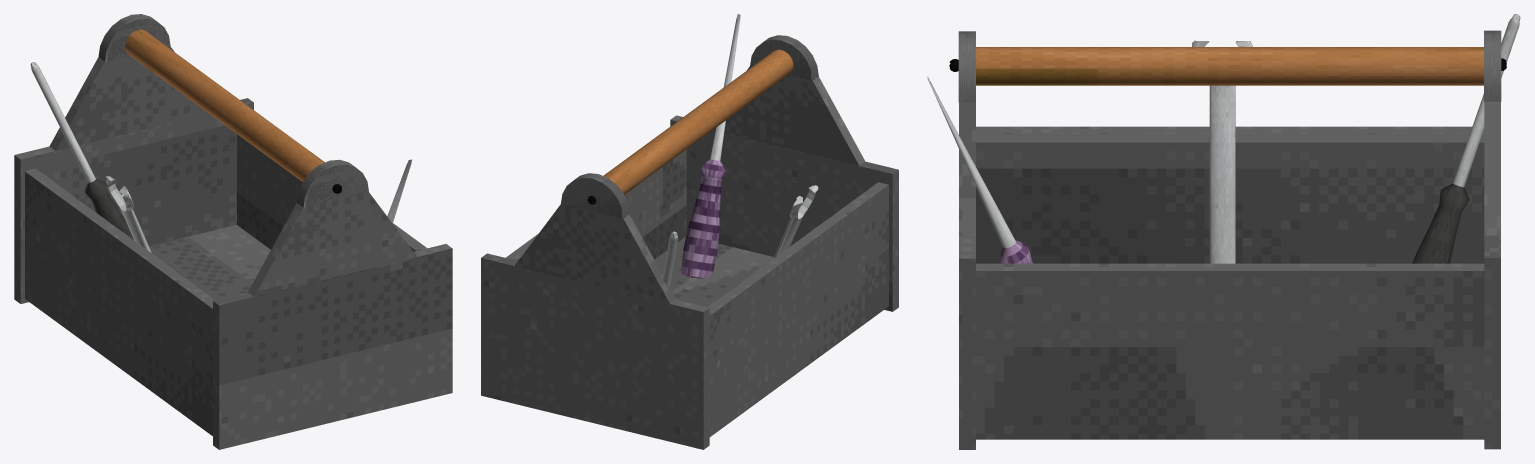
The model's file is Tool_Box_2.fbx.
3 views of the same model, side by side, from view 1: azimuth 30°, elevation 25°; view 2: azimuth 150°, elevation 25°; view 3: azimuth 270°, elevation 25° (orthographic). The views are drawn at different scales.
Parts seen in each view (by area): view 1: pCube5.001, pCylinder5, pCylinder6; view 2: pCube5.001, pCylinder4, pCylinder6, pCylinder5; view 3: pCube5.001, pCylinder6, pCylinder5, pCylinder4.
Part boxes in pixels (left/top/right/bottom): pCube5.001: left=14, top=14, right=452, bottom=449; pCylinder5: left=30, top=62, right=133, bottom=239; pCylinder6: left=106, top=176, right=151, bottom=252; pCube5.001: left=481, top=35, right=898, bottom=449; pCylinder4: left=681, top=14, right=740, bottom=278; pCylinder6: left=773, top=185, right=818, bottom=258; pCylinder5: left=662, top=231, right=678, bottom=286; pCube5.001: left=949, top=30, right=1506, bottom=449; pCylinder6: left=1192, top=40, right=1252, bottom=263; pCylinder5: left=1412, top=14, right=1520, bottom=263; pCylinder4: left=927, top=76, right=1033, bottom=263.
Bounding box in the file's own units: 0.5839 × 0.5976 × 0.9456.
6 materials, 5 textured.
